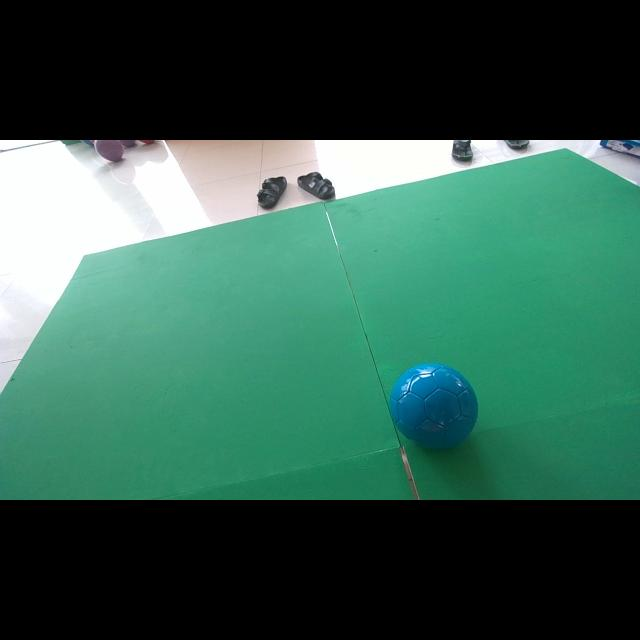B: (390, 362, 478, 450)
P: (94, 140, 124, 161), (119, 140, 136, 148)
R: (139, 141, 155, 144)
